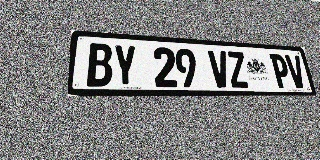2: (153, 47, 177, 87)
9: (175, 48, 198, 87)
B: (87, 43, 112, 87)
P: (269, 54, 292, 88)
V: (208, 50, 231, 88), (285, 55, 307, 88)
Y: (113, 44, 137, 87)
Z: (226, 51, 249, 88)
